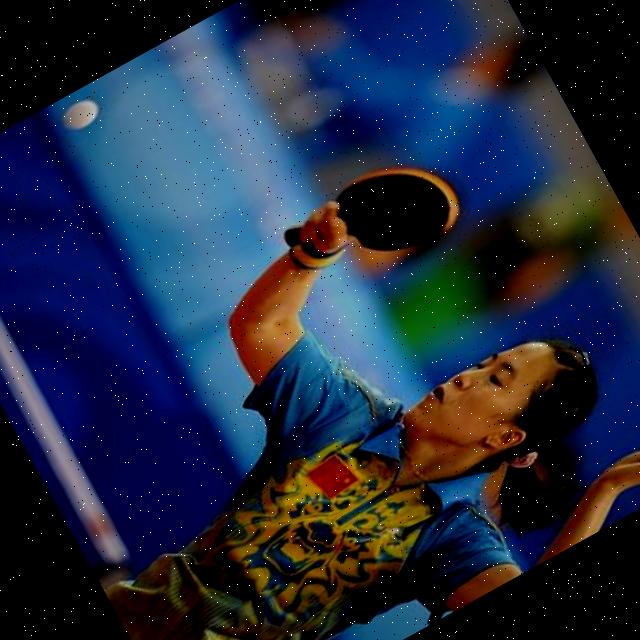ping-pong-ball: (56, 92, 105, 136)
